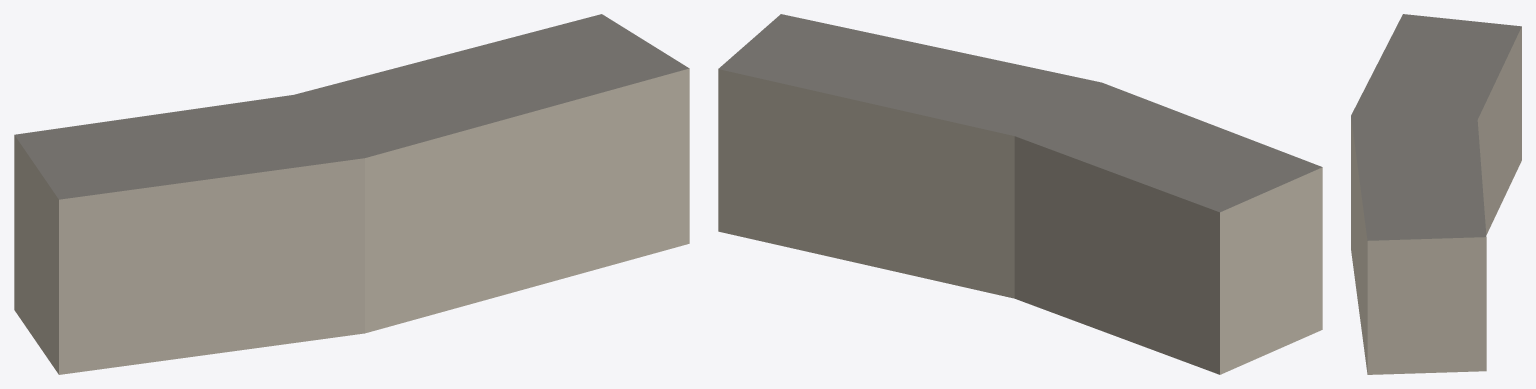
The picture shows the model from 3 angles, left to right: view 1: azimuth 30°, elevation 25°; view 2: azimuth 150°, elevation 25°; view 3: azimuth 270°, elevation 25°; orthographic projection. The views are drawn at different scales.
Visible parts, largest first — view 1: HP-w299224157; view 2: HP-w299224157; view 3: HP-w299224157.
Boxes of the visible parts, box(x1,y1,x2,y2) form: HP-w299224157: box(14, 14, 689, 374); HP-w299224157: box(718, 14, 1322, 374); HP-w299224157: box(1351, 14, 1521, 374).
Bounding box in the file's own units: 65.28 × 18 × 20.79.
